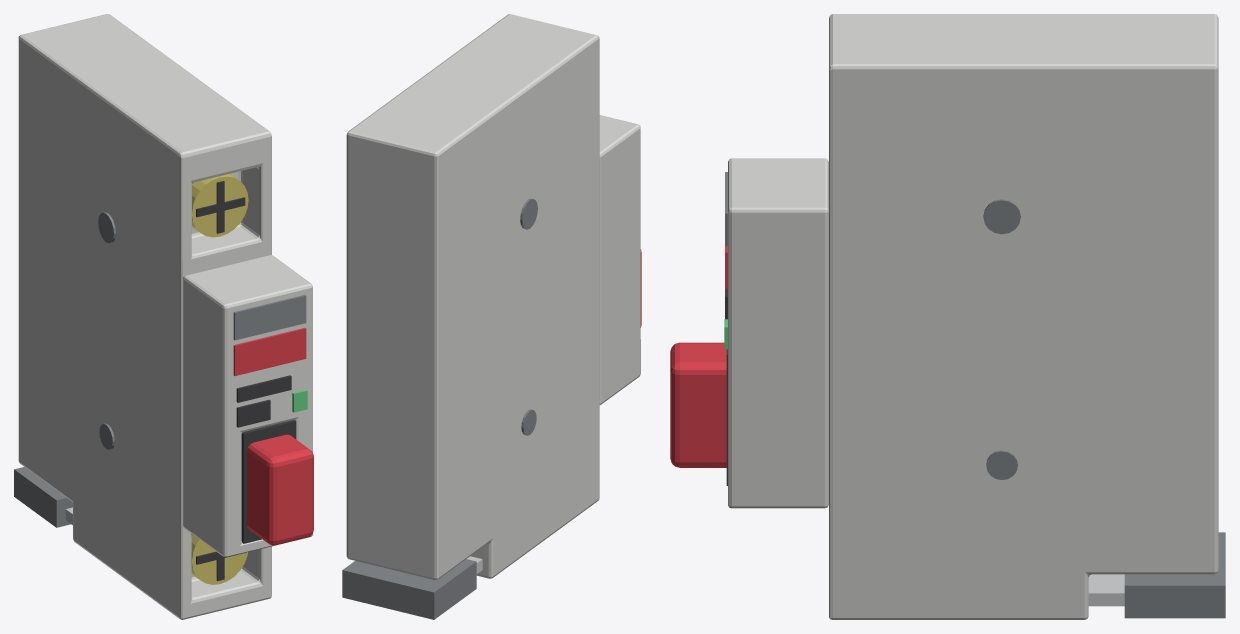
Rendered from MCB.glb.
3 views of the same model, side by side, from view 1: azimuth 30°, elevation 25°; view 2: azimuth 150°, elevation 25°; view 3: azimuth 270°, elevation 25° (orthographic). The views are drawn at different scales.
Visible parts, largest first — view 1: MCB; view 2: MCB; view 3: MCB.
Boxes of the visible parts, <box> form: MCB: <box>14,14,313,619</box>; MCB: <box>342,14,641,619</box>; MCB: <box>670,14,1225,619</box>.
Bounding box in the file's own units: 0.0263 × 0.122 × 0.1105.
